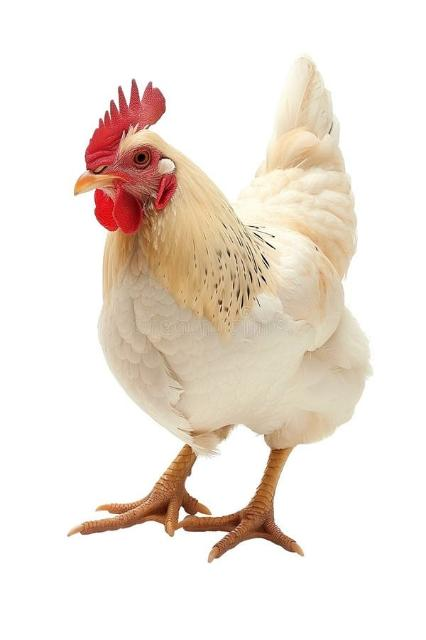Chicken: (64, 50, 376, 560)
